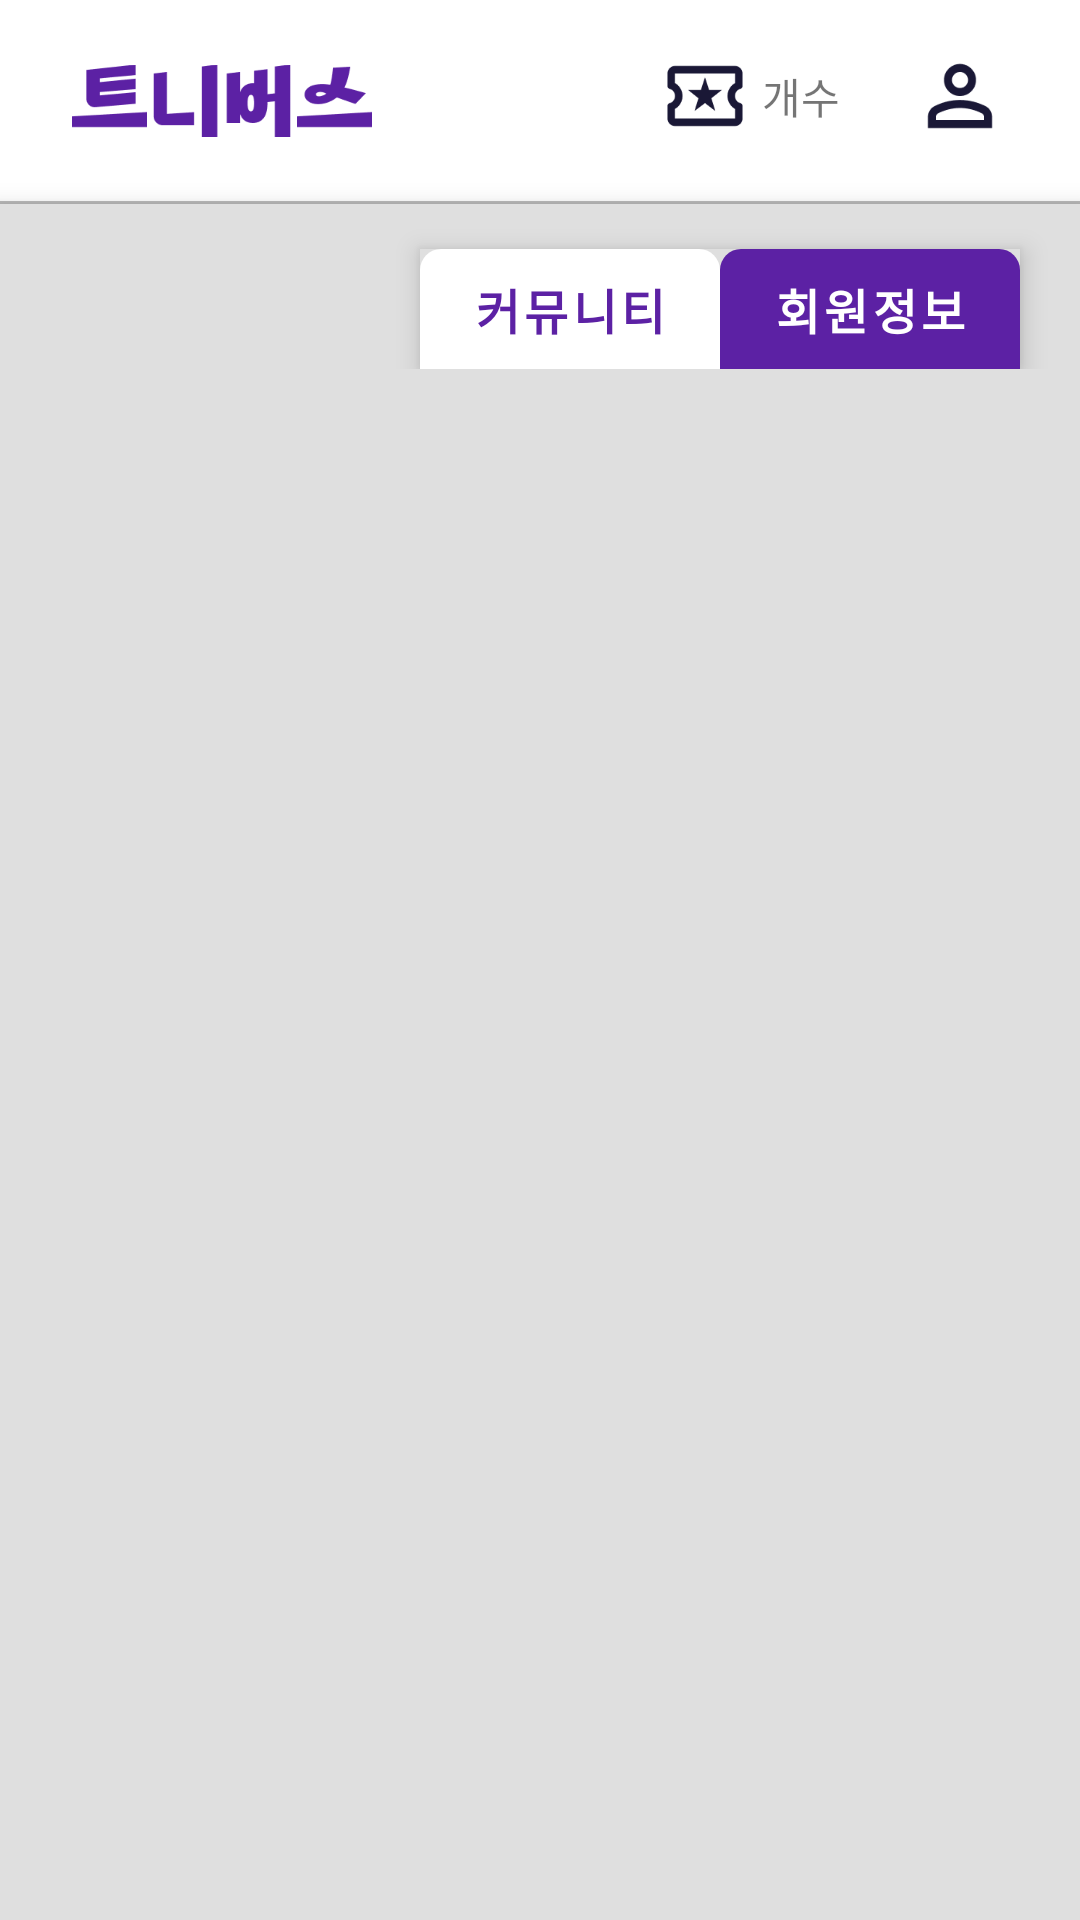

Icons on this 1080x1920 Android screen, each with the point to tap as [x,y]:
buy vote: [705,96]
person: [960,96]
